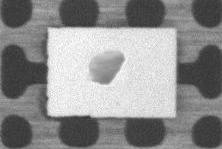DIE_INK: (121, 27, 195, 63)
